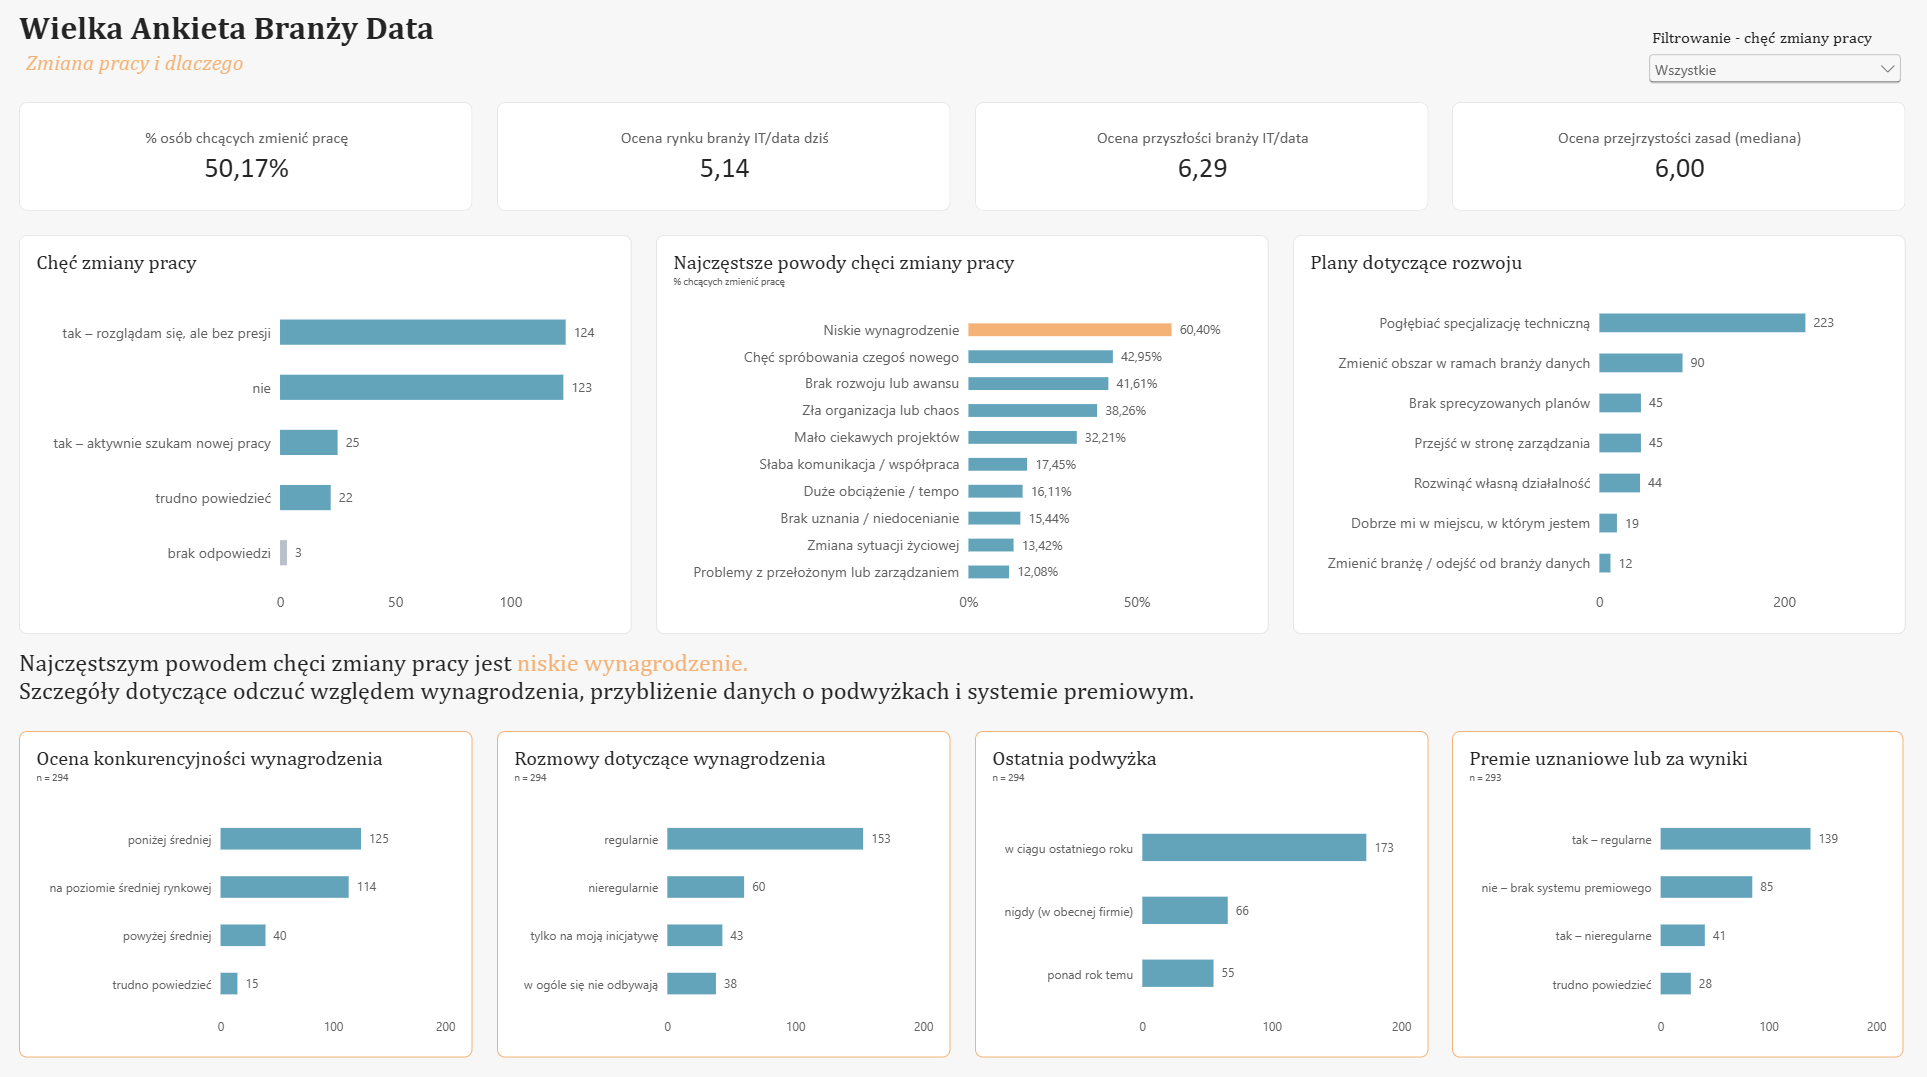

This screenshot's page, from the dashboard's own definition file:
{"tool":"powerbi","page":{"name":"Zmiana pracy i wynagrodzenia","canvas":[1920,1080],"ordinal":1},"visuals":[{"type":"barChart","title":"Chęć zmiany pracy","fields":{"Category":["VW_ZMIANA_PRACY.czy_zmiana_pracy"],"Y":["VW_OGOLNE.liczba_ankietowanych"]},"box":[23.8,240.1,608,396],"z":0},{"type":"barChart","title":"Najczęstsze powody chęci zmiany pracy","fields":{"Category":["vw_zmiana_pracy_long.powod"],"Y":["vw_zmiana_pracy_long.% chcących zmienić pracę wg powodu"]},"box":[656,240,608,396],"z":1000},{"type":"barChart","title":"Rozmowy dotyczące wynagrodzenia","fields":{"Category":["organizacja_pracy.jak często w twojej firmie odbywają się rozmowy dotyczące wynagrodzenia lub przeglądy płacowe"],"Y":["VW_OGOLNE.liczba_ankietowanych"]},"box":[498,732,450,324],"z":2000},{"type":"barChart","title":"Ostatnia podwyżka","fields":{"Category":["organizacja_pracy.kiedy ostatni raz otrzymałeś/aś podwyżkę wynagrodzenia"],"Y":["VW_OGOLNE.liczba_ankietowanych"]},"box":[972,732,450,324],"z":3000},{"type":"barChart","title":"Premie uznaniowe lub za wyniki","fields":{"Category":["organizacja_pracy.czy w twojej firmie funkcjonują premie uznaniowe lub za wyniki"],"Y":["VW_OGOLNE.liczba_ankietowanych"]},"box":[1446,732,448,324],"z":4000},{"type":"barChart","title":"Plany dotyczące rozwoju","fields":{"Category":["vw_przyszlosc_rozwoj.Atrybut"],"Y":["vw_przyszlosc_rozwoj.rozwoj_pozytywne"]},"box":[1288,240,608,396],"z":5000},{"type":"barChart","title":"Ocena konkurencyjności wynagrodzenia","fields":{"Category":["organizacja_pracy.jak oceniasz konkurencyjność swojego wynagrodzenia względem rynku"],"Y":["VW_OGOLNE.liczba_ankietowanych"]},"box":[24,732,450,324],"z":6000},{"type":"slicer","fields":{"Values":["VW_ZMIANA_PRACY.zmiana_pracy_krotka"]},"box":[1636.2,34.7,260,60],"z":7000},{"type":"textbox","box":[23.8,649.9,1872.4,74.4],"z":8000},{"type":"textbox","box":[23.8,15.9,474.3,43.7],"z":9000},{"type":"textbox","box":[30.8,37.7,369.1,56.6],"z":10000},{"type":"cardVisual","fields":{"Data":["VW_ZMIANA_PRACY.% osób chcących zmienić pracę"]},"box":[24,108,450,108],"z":11000},{"type":"cardVisual","fields":{"Data":["Avg(VW_OCENA_OBECNY_RYNEK_VS_PRZYSZLOSC.obecny_rynek)"]},"box":[498,108,450,108],"z":12000},{"type":"cardVisual","fields":{"Data":["Avg(VW_OCENA_OBECNY_RYNEK_VS_PRZYSZLOSC.przyszlosc_rynek)"]},"box":[972,108,450,108],"z":13000},{"type":"cardVisual","fields":{"Data":["Median(organizacja_pracy.jak oceniasz przejrzystość zasad wynagradzania i przyznawania premii w twojej firmie)"]},"box":[1446,108,450,108],"z":14000}]}

Visuals, with their boxes in screenshot pixels (x1, y1, x2, y2), scaled from the page's 1920x1080 canvas onto the 1927x1077 screenshot:
"Chęć zmiany pracy" barChart: x1=24, y1=239, x2=634, y2=634
"Najczęstsze powody chęci zmiany pracy" barChart: x1=658, y1=239, x2=1269, y2=634
"Rozmowy dotyczące wynagrodzenia" barChart: x1=500, y1=730, x2=951, y2=1053
"Ostatnia podwyżka" barChart: x1=976, y1=730, x2=1427, y2=1053
"Premie uznaniowe lub za wyniki" barChart: x1=1451, y1=730, x2=1901, y2=1053
"Plany dotyczące rozwoju" barChart: x1=1293, y1=239, x2=1903, y2=634
"Ocena konkurencyjności wynagrodzenia" barChart: x1=24, y1=730, x2=476, y2=1053
slicer - VW_ZMIANA_PRACY.zmiana_pracy_krotka: x1=1642, y1=35, x2=1903, y2=94
textbox: x1=24, y1=648, x2=1903, y2=722
textbox: x1=24, y1=16, x2=500, y2=59
textbox: x1=31, y1=38, x2=401, y2=94
cardVisual - VW_ZMIANA_PRACY.% osób chcących zmienić pracę: x1=24, y1=108, x2=476, y2=215
cardVisual - Avg(VW_OCENA_OBECNY_RYNEK_VS_PRZYSZLOSC.obecny_rynek): x1=500, y1=108, x2=951, y2=215
cardVisual - Avg(VW_OCENA_OBECNY_RYNEK_VS_PRZYSZLOSC.przyszlosc_rynek): x1=976, y1=108, x2=1427, y2=215
cardVisual - Median(organizacja_pracy.jak oceniasz przejrzystość zasad wynagradzania i przyznawania premii w twojej firmie): x1=1451, y1=108, x2=1903, y2=215
